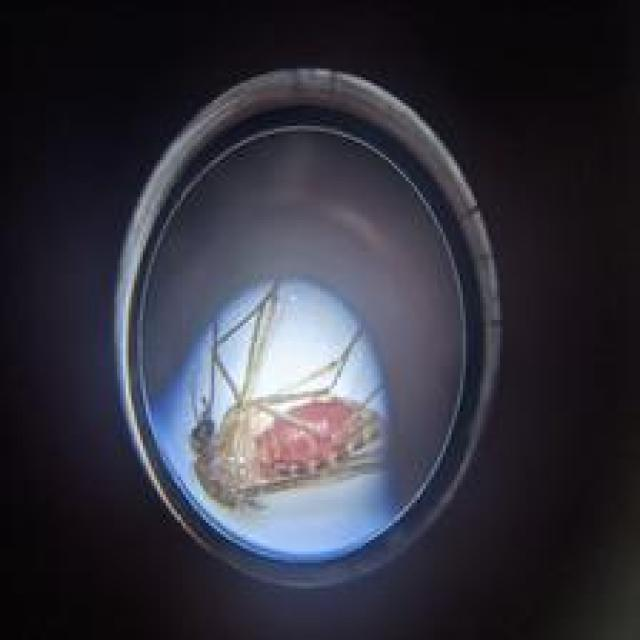Culex: (185, 280, 388, 511)
